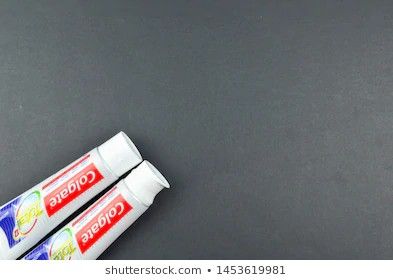colgate-total-150gm: (1, 126, 148, 253), (66, 155, 184, 260)
